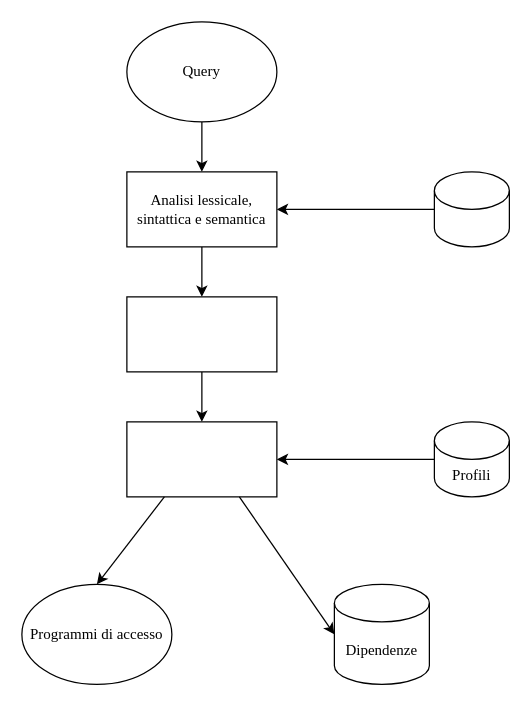
Some shapes in this 531 by 706 pixel diagram are drawn without their labels. The shapes that lost their labels are listed below. From the top down, each one's centre as x and y in pixels, then its label:
At point 471,209: "Catalogo".
At point 201,334: "Ottimizzazione algebrica".
At point 201,459: "Ottimizzazione basata sui costi di esecuzione".
